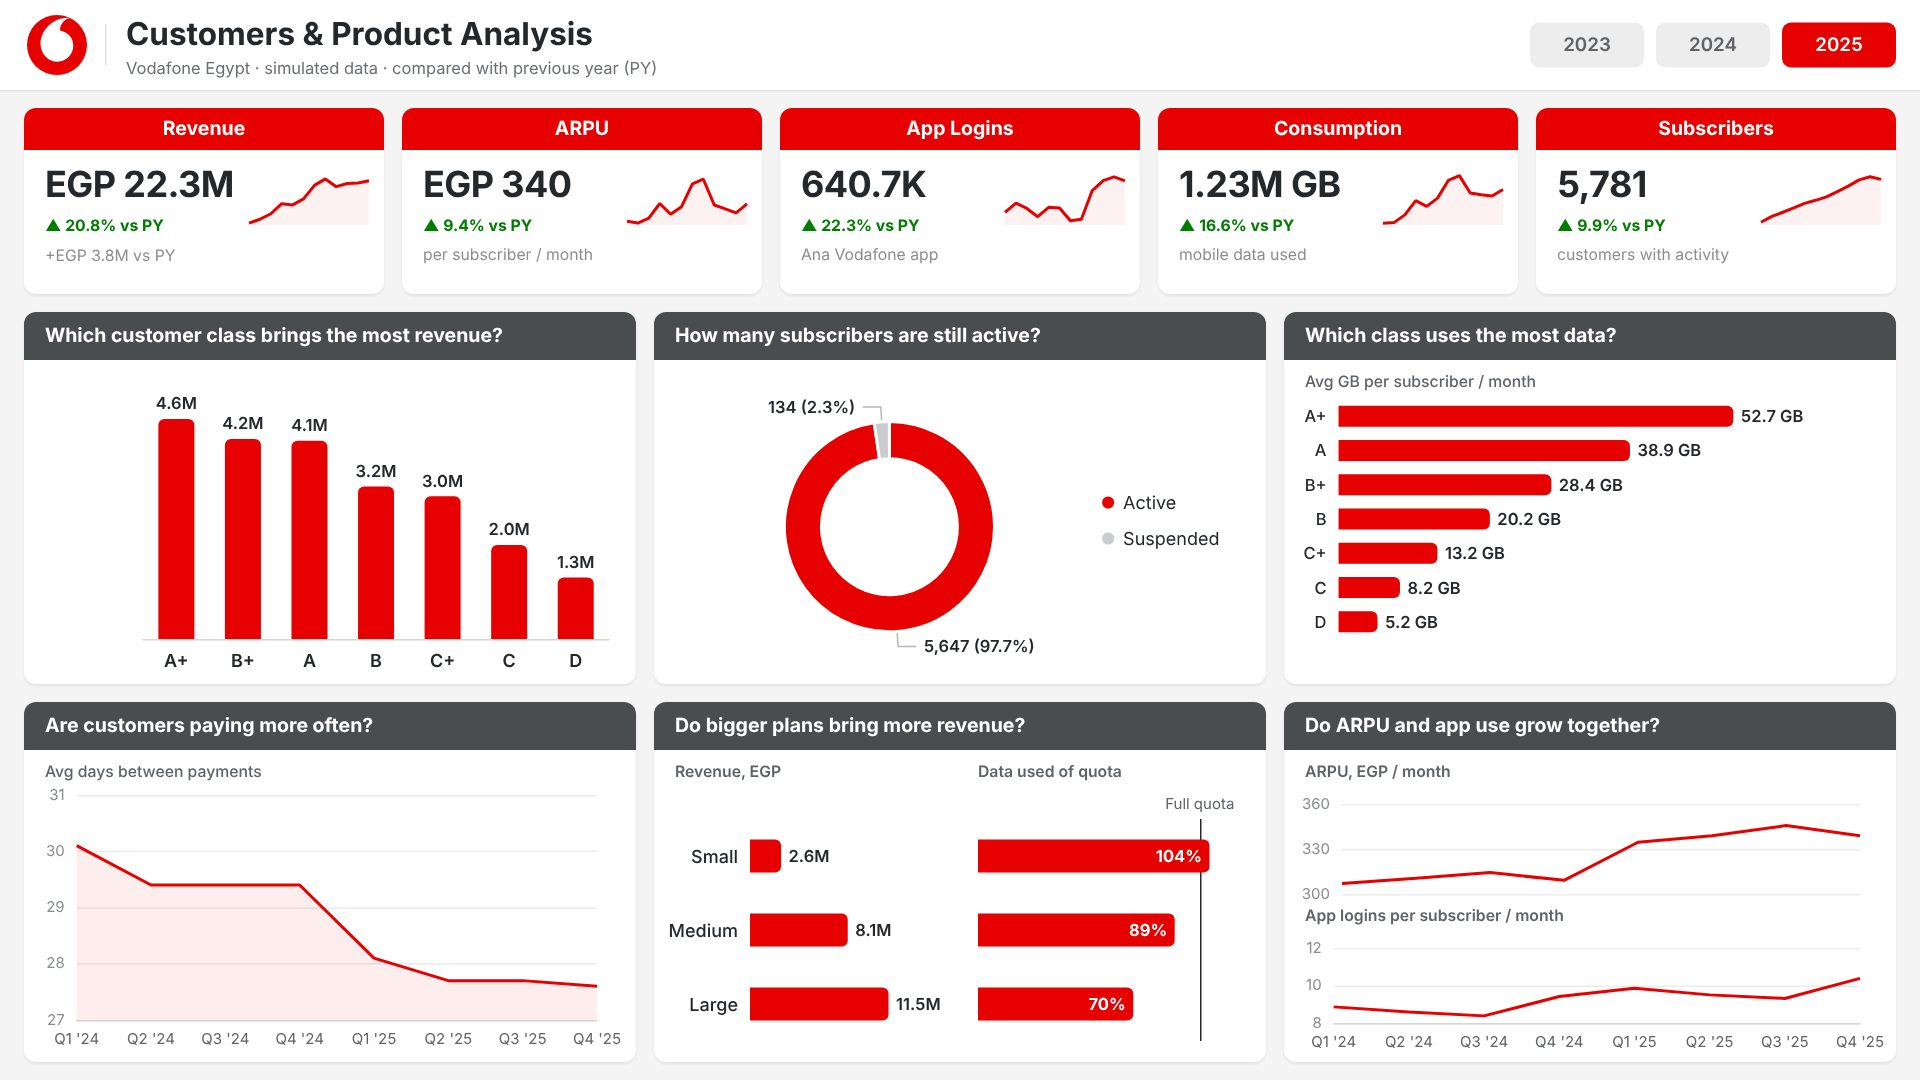

This screenshot's page, from the dashboard's own definition file:
{"tool":"powerbi","page":{"name":"Customers & Product Analysis","canvas":[1280,720],"ordinal":0},"visuals":[{"type":"slicer","fields":{"Values":["Years.Year"]},"box":[1020,15,244,30],"z":1000},{"type":"card","fields":{"Values":["_Measures.Revenue CY Label"]},"box":[22,104,136,36],"z":2000},{"type":"card","fields":{"Values":["_Measures.Revenue vs PY Label"]},"box":[22,140,136,20],"z":3000},{"type":"card","fields":{"Values":["_Measures.Revenue vs PY Diff Label"]},"box":[22,160,136,20],"z":4000},{"type":"lineChart","fields":{"Category":["Dim_Date.MonthNumber"],"Y":["_Measures.Revenue CY"]},"box":[164,100,90,66],"z":5000},{"type":"card","fields":{"Values":["_Measures.ARPU CY Label"]},"box":[274,104,136,36],"z":6000},{"type":"card","fields":{"Values":["_Measures.ARPU vs PY Label"]},"box":[274,140,136,20],"z":7000},{"type":"lineChart","fields":{"Category":["Dim_Date.MonthNumber"],"Y":["_Measures.ARPU CY"]},"box":[416,100,90,66],"z":8000},{"type":"card","fields":{"Values":["_Measures.App Logins CY Label"]},"box":[526,104,136,36],"z":9000},{"type":"card","fields":{"Values":["_Measures.App Logins vs PY Label"]},"box":[526,140,136,20],"z":10000},{"type":"lineChart","fields":{"Category":["Dim_Date.MonthNumber"],"Y":["_Measures.App Logins CY"]},"box":[668,100,90,66],"z":11000},{"type":"card","fields":{"Values":["_Measures.Data Used GB CY Label"]},"box":[778,104,136,36],"z":12000},{"type":"card","fields":{"Values":["_Measures.Data Used GB vs PY Label"]},"box":[778,140,136,20],"z":13000},{"type":"lineChart","fields":{"Category":["Dim_Date.MonthNumber"],"Y":["_Measures.Data Used GB CY"]},"box":[920,100,90,66],"z":14000},{"type":"card","fields":{"Values":["_Measures.Subscribers CY Label"]},"box":[1030,104,136,36],"z":15000},{"type":"card","fields":{"Values":["_Measures.Subscribers vs PY Label"]},"box":[1030,140,136,20],"z":16000},{"type":"lineChart","fields":{"Category":["Dim_Date.MonthNumber"],"Y":["_Measures.Subscribers CY"]},"box":[1172,100,90,66],"z":17000},{"type":"clusteredColumnChart","fields":{"Category":["Dim_Customer.CustomerClass"],"Y":["_Measures.Revenue CY"]},"box":[24,244,392,206],"z":18000},{"type":"donutChart","fields":{"Category":["Dim_Customer.Status"],"Y":["_Measures.Subscribers CY"]},"box":[444,244,392,206],"z":19000},{"type":"clusteredBarChart","fields":{"Category":["Dim_Customer.CustomerClass"],"Y":["_Measures.Avg GB per Subscriber CY"]},"box":[864,262,392,188],"z":20000},{"type":"lineChart","fields":{"Category":["Dim_Date.Quarter Label"],"Y":["_Measures.Avg Days Between Payments 2Y"]},"box":[24,520,392,182],"z":21000},{"type":"clusteredBarChart","fields":{"Category":["Dim_Plan.Quota Size"],"Y":["_Measures.Revenue CY"]},"box":[442,524,200,176],"z":22000},{"type":"clusteredBarChart","fields":{"Category":["Dim_Plan.Quota Size"],"Y":["_Measures.Quota Utilization CY"]},"box":[644,524,192,176],"z":23000},{"type":"lineChart","fields":{"Category":["Dim_Date.Quarter Label"],"Y":["_Measures.ARPU 2Y"]},"box":[862,520,396,80],"z":24000},{"type":"lineChart","fields":{"Category":["Dim_Date.Quarter Label"],"Y":["_Measures.Logins per Subscriber 2Y"]},"box":[862,616,396,88],"z":25000}]}

Visuals, with their boxes in screenshot pixels (x1, y1, x2, y2), scaled from the page's 1280x720 canvas onto the 1920x1080 screenshot:
slicer - Years.Year: x1=1530 y1=22 x2=1896 y2=68
card - _Measures.Revenue CY Label: x1=33 y1=156 x2=237 y2=210
card - _Measures.Revenue vs PY Label: x1=33 y1=210 x2=237 y2=240
card - _Measures.Revenue vs PY Diff Label: x1=33 y1=240 x2=237 y2=270
lineChart - Dim_Date.MonthNumber x _Measures.Revenue CY: x1=246 y1=150 x2=381 y2=249
card - _Measures.ARPU CY Label: x1=411 y1=156 x2=615 y2=210
card - _Measures.ARPU vs PY Label: x1=411 y1=210 x2=615 y2=240
lineChart - Dim_Date.MonthNumber x _Measures.ARPU CY: x1=624 y1=150 x2=759 y2=249
card - _Measures.App Logins CY Label: x1=789 y1=156 x2=993 y2=210
card - _Measures.App Logins vs PY Label: x1=789 y1=210 x2=993 y2=240
lineChart - Dim_Date.MonthNumber x _Measures.App Logins CY: x1=1002 y1=150 x2=1137 y2=249
card - _Measures.Data Used GB CY Label: x1=1167 y1=156 x2=1371 y2=210
card - _Measures.Data Used GB vs PY Label: x1=1167 y1=210 x2=1371 y2=240
lineChart - Dim_Date.MonthNumber x _Measures.Data Used GB CY: x1=1380 y1=150 x2=1515 y2=249
card - _Measures.Subscribers CY Label: x1=1545 y1=156 x2=1749 y2=210
card - _Measures.Subscribers vs PY Label: x1=1545 y1=210 x2=1749 y2=240
lineChart - Dim_Date.MonthNumber x _Measures.Subscribers CY: x1=1758 y1=150 x2=1893 y2=249
clusteredColumnChart - Dim_Customer.CustomerClass x _Measures.Revenue CY: x1=36 y1=366 x2=624 y2=675
donutChart - Dim_Customer.Status x _Measures.Subscribers CY: x1=666 y1=366 x2=1254 y2=675
clusteredBarChart - Dim_Customer.CustomerClass x _Measures.Avg GB per Subscriber CY: x1=1296 y1=393 x2=1884 y2=675
lineChart - Dim_Date.Quarter Label x _Measures.Avg Days Between Payments 2Y: x1=36 y1=780 x2=624 y2=1053
clusteredBarChart - Dim_Plan.Quota Size x _Measures.Revenue CY: x1=663 y1=786 x2=963 y2=1050
clusteredBarChart - Dim_Plan.Quota Size x _Measures.Quota Utilization CY: x1=966 y1=786 x2=1254 y2=1050
lineChart - Dim_Date.Quarter Label x _Measures.ARPU 2Y: x1=1293 y1=780 x2=1887 y2=900
lineChart - Dim_Date.Quarter Label x _Measures.Logins per Subscriber 2Y: x1=1293 y1=924 x2=1887 y2=1056
